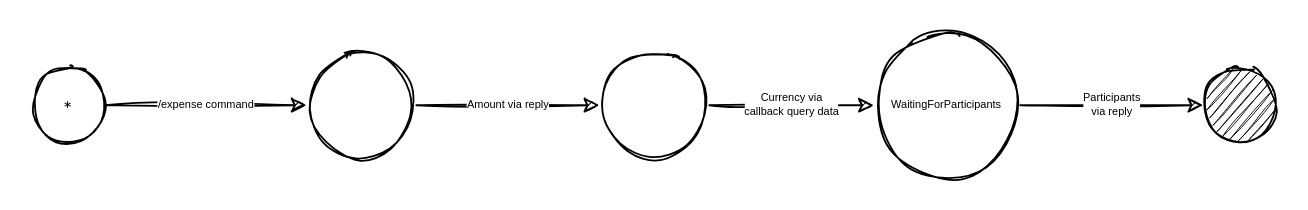
This 1308x210 diagram has some shape labels left out. Each missing label, with the box of its shape:
WaitingForAmount: (305, 48, 416, 160)
WaitingForCurrency: (597, 48, 709, 160)
